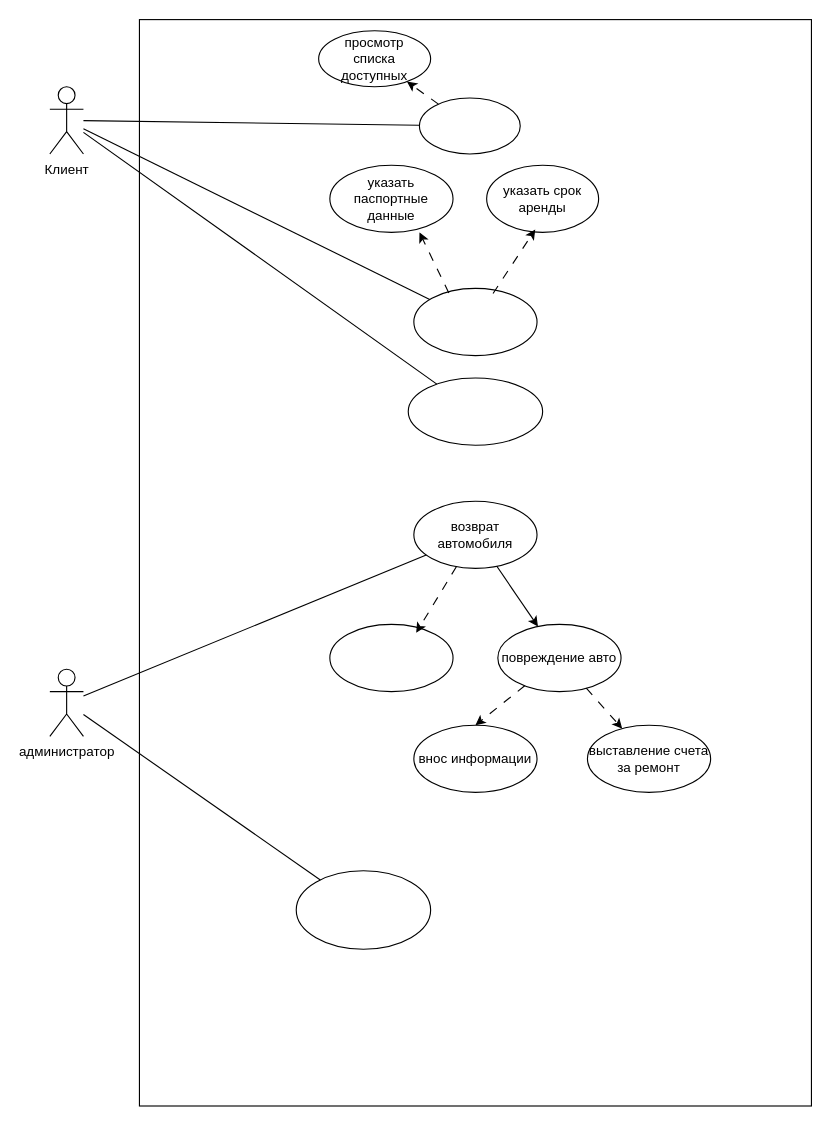
Some shapes in this 831 by 1126 pixel diagram are drawn without their labels. Here are the shapes that lost their labels. From the top down, the centre of each, then its label:
point 469,125: выбрать авто
point 475,321: заполнить форму заказа
point 475,411: оплатить заказ
point 391,657: стандартная процедура оформления
point 363,909: отклонение заявки
